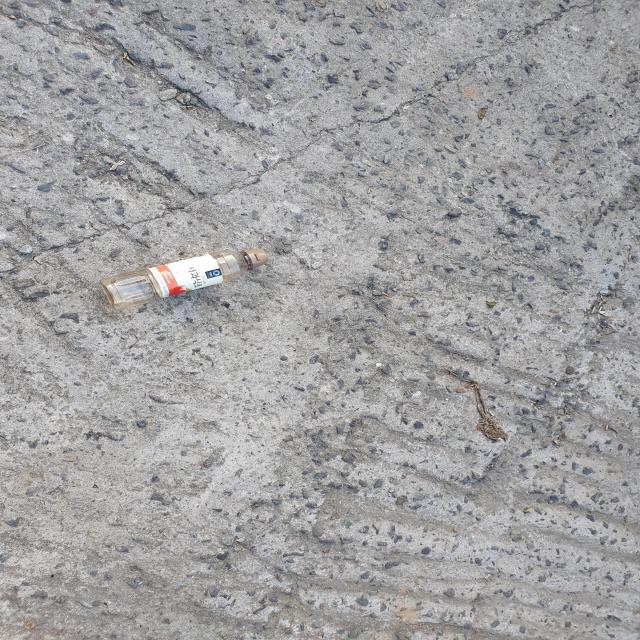plastic: (99, 249, 268, 310)
